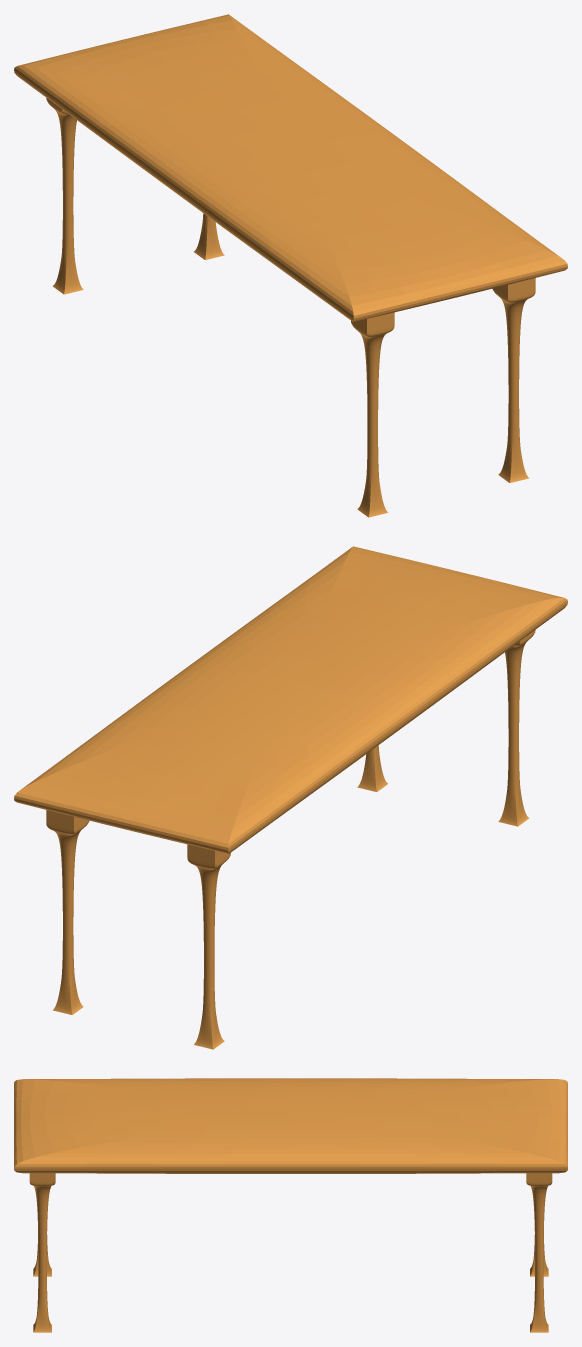
File: table.fbx
3 views of the same model, one above another, from view 1: azimuth 30°, elevation 25°; view 2: azimuth 150°, elevation 25°; view 3: azimuth 270°, elevation 25° (orthographic). The views are drawn at different scales.
Visible parts, largest first — view 1: table, legs; view 2: table, legs; view 3: table, legs.
Part boxes in pixels (x1,y1,x2,y2): table: (14, 14, 567, 321); legs: (46, 98, 535, 517); table: (14, 546, 567, 853); legs: (46, 630, 535, 1049); table: (14, 1078, 567, 1173); legs: (29, 1173, 552, 1332).
Size of the model in its own units: 211 by 219 by 579.
